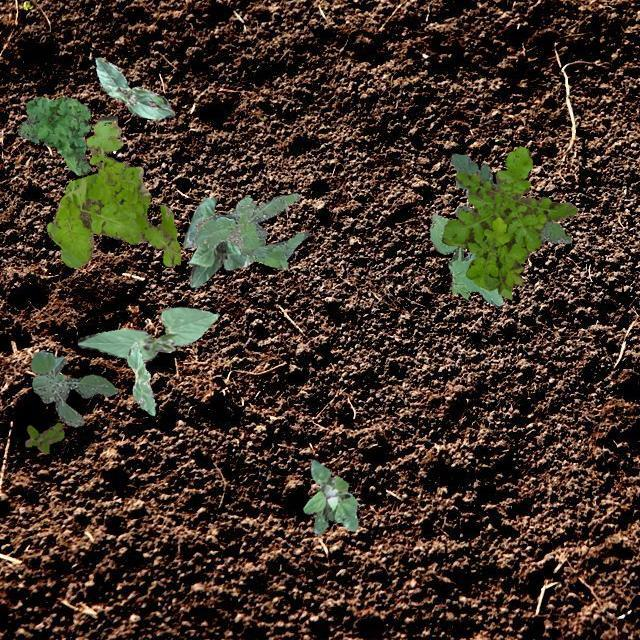crop: (76, 306, 216, 361), (182, 196, 252, 286), (95, 56, 173, 118), (126, 342, 154, 414)
weed: (441, 146, 576, 298), (46, 115, 180, 266), (450, 152, 570, 242), (192, 192, 308, 268), (429, 214, 502, 306), (30, 350, 116, 426), (18, 95, 88, 173), (302, 458, 358, 534), (24, 422, 62, 452)
